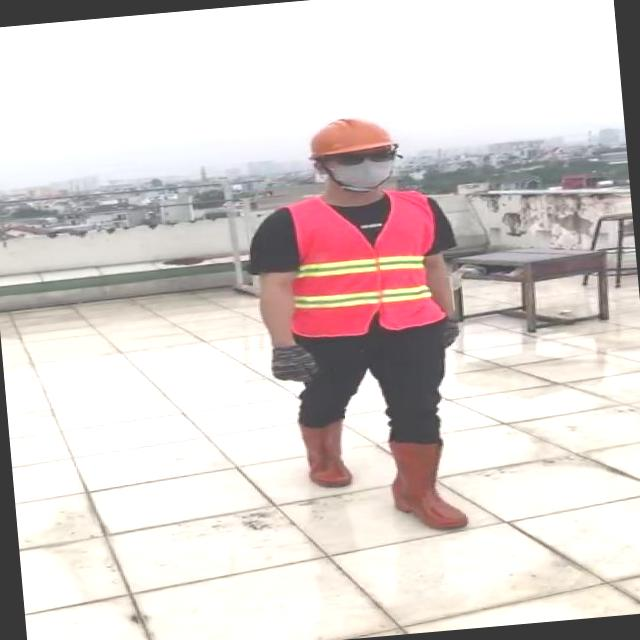boots: (382, 435, 470, 535), (296, 414, 356, 490)
gloves: (262, 339, 316, 386), (435, 314, 463, 346)
helmet: (302, 106, 404, 162)
vest: (276, 186, 456, 339)
